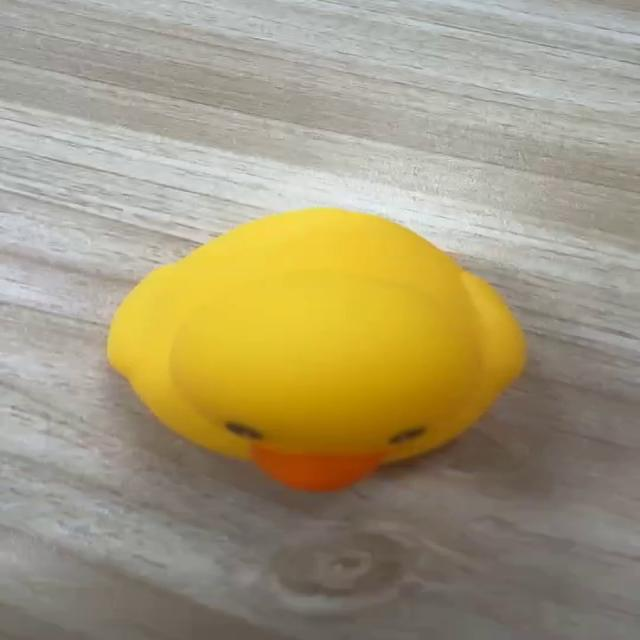yellow_duck: (103, 206, 528, 494)
